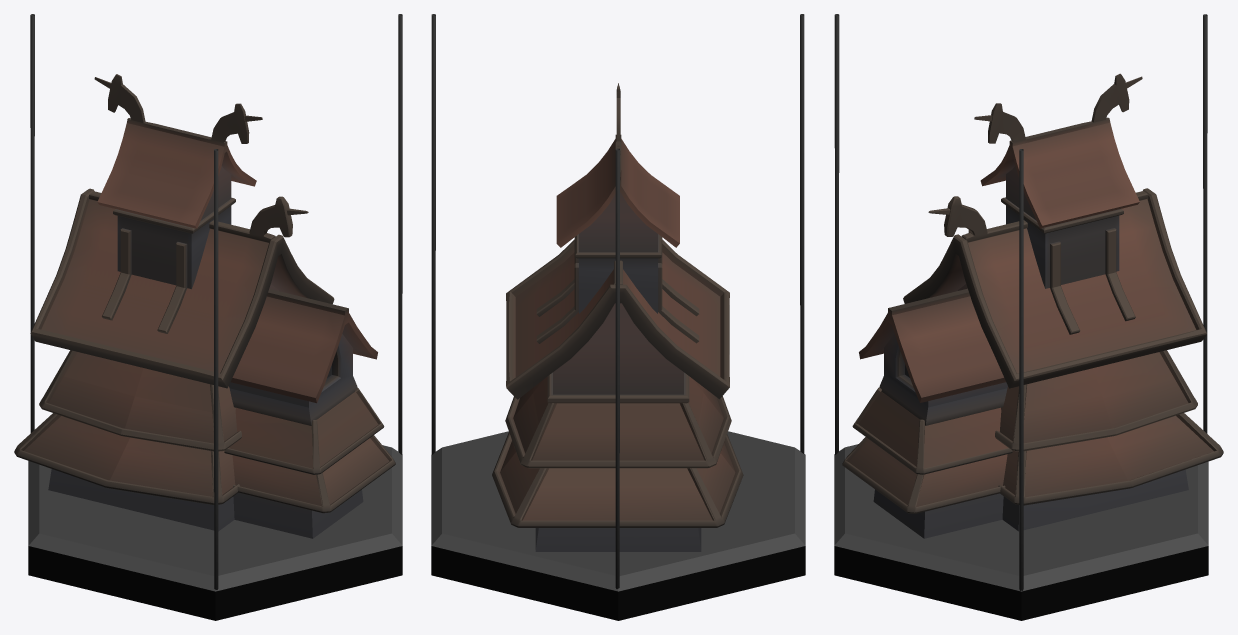
Rendered from vikingCastle.fbx.
The picture shows the model from 3 angles, left to right: view 1: azimuth 30°, elevation 25°; view 2: azimuth 150°, elevation 25°; view 3: azimuth 270°, elevation 25°; orthographic projection.
Visible parts, largest first — view 1: vikingCastle; view 2: vikingCastle; view 3: vikingCastle.
Boxes of the visible parts, x1=… form: vikingCastle: x1=14, y1=14, x2=402, y2=620; vikingCastle: x1=431, y1=14, x2=805, y2=620; vikingCastle: x1=834, y1=14, x2=1223, y2=620.
Bounding box in the file's own units: 2 × 2.4 × 1.8.
